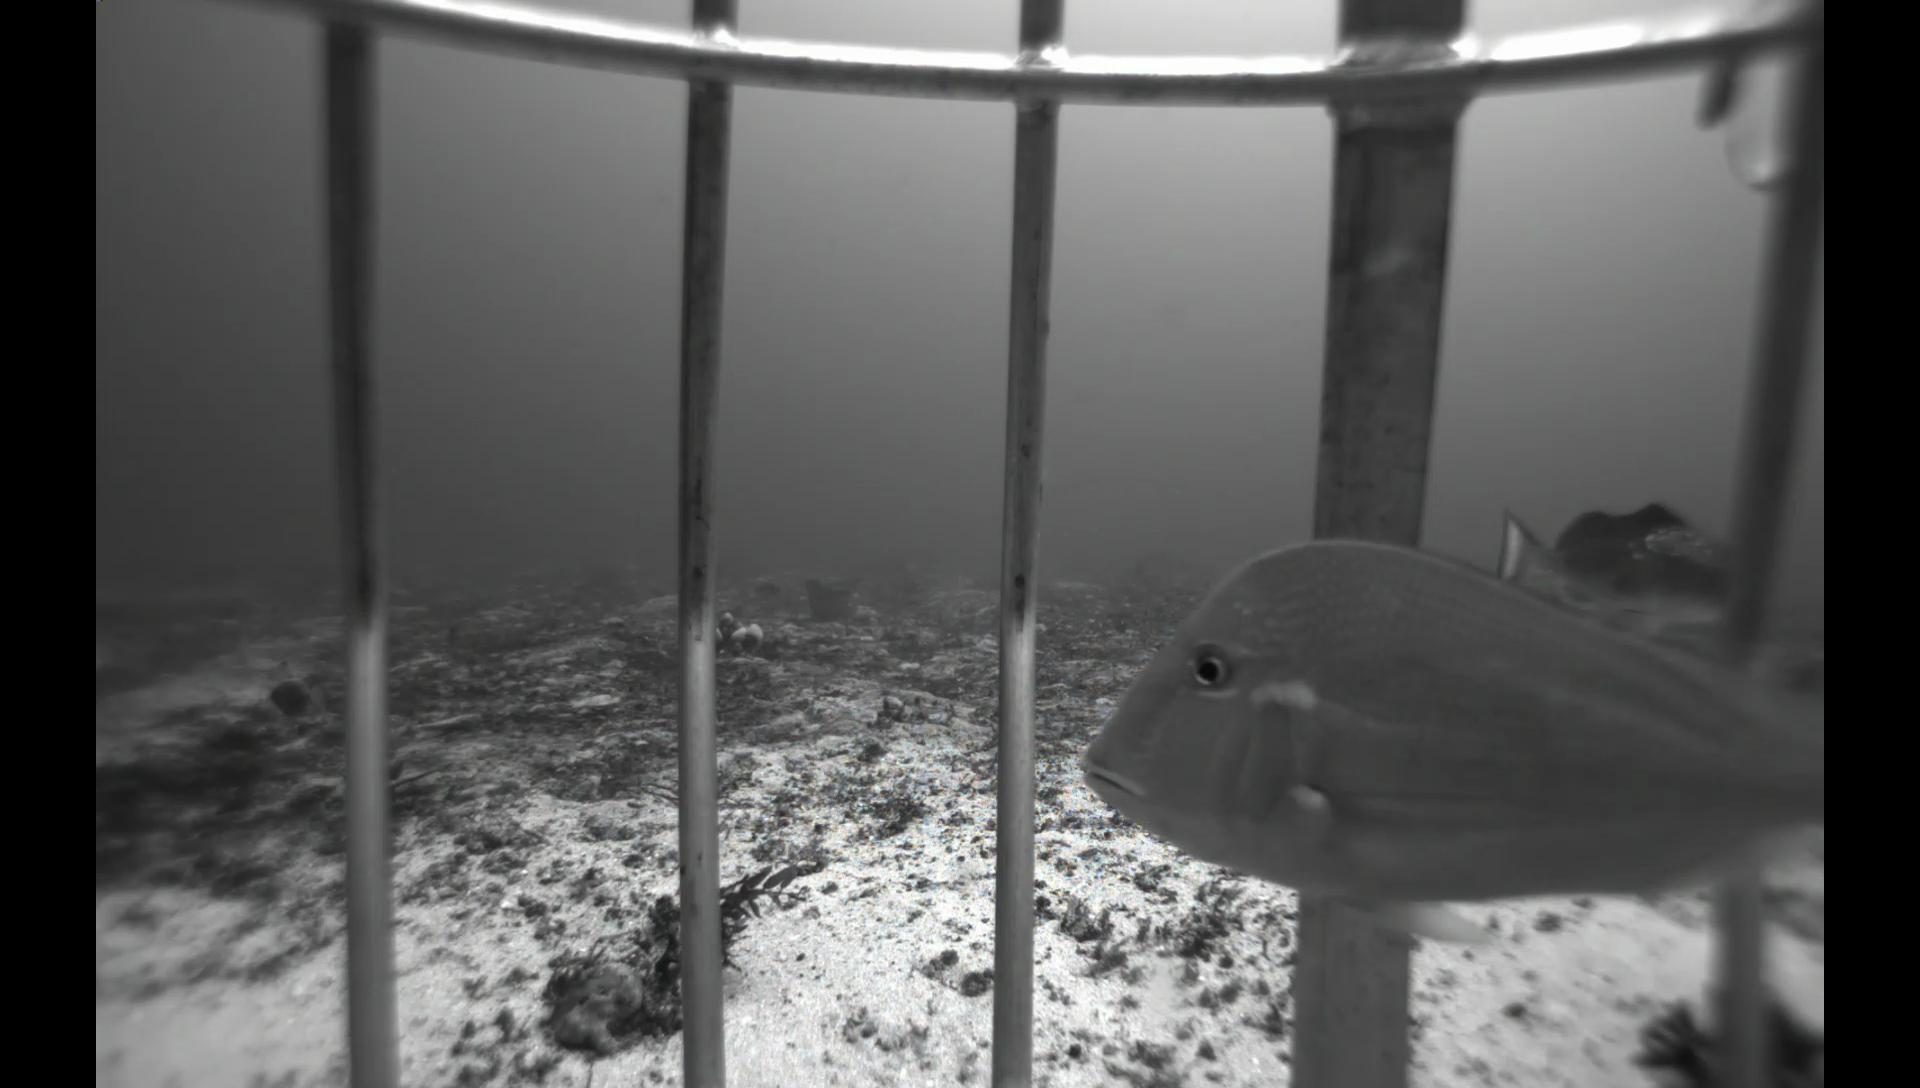CALAMUSPRORIDENS-170210605: (1062, 524, 1826, 953)
EPINEPHELUSMORIO-170021211: (1487, 499, 1729, 646)
PRISTIGENYSALTA-170050401: (262, 673, 336, 727)
